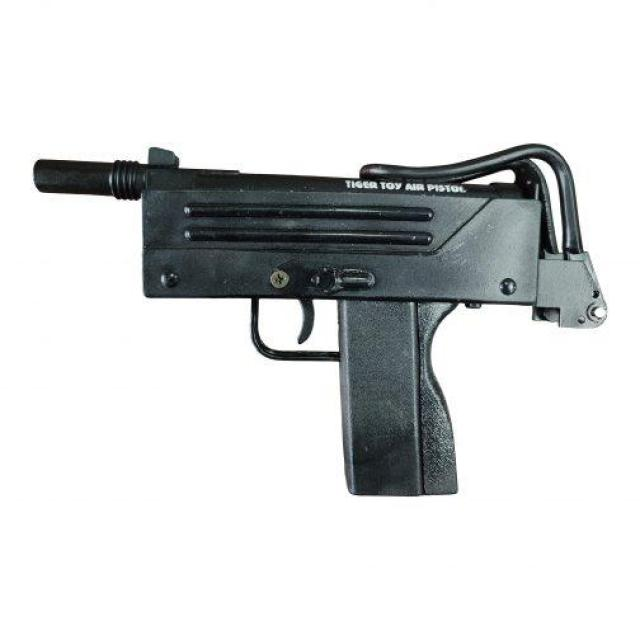weapon: (29, 123, 612, 521)
